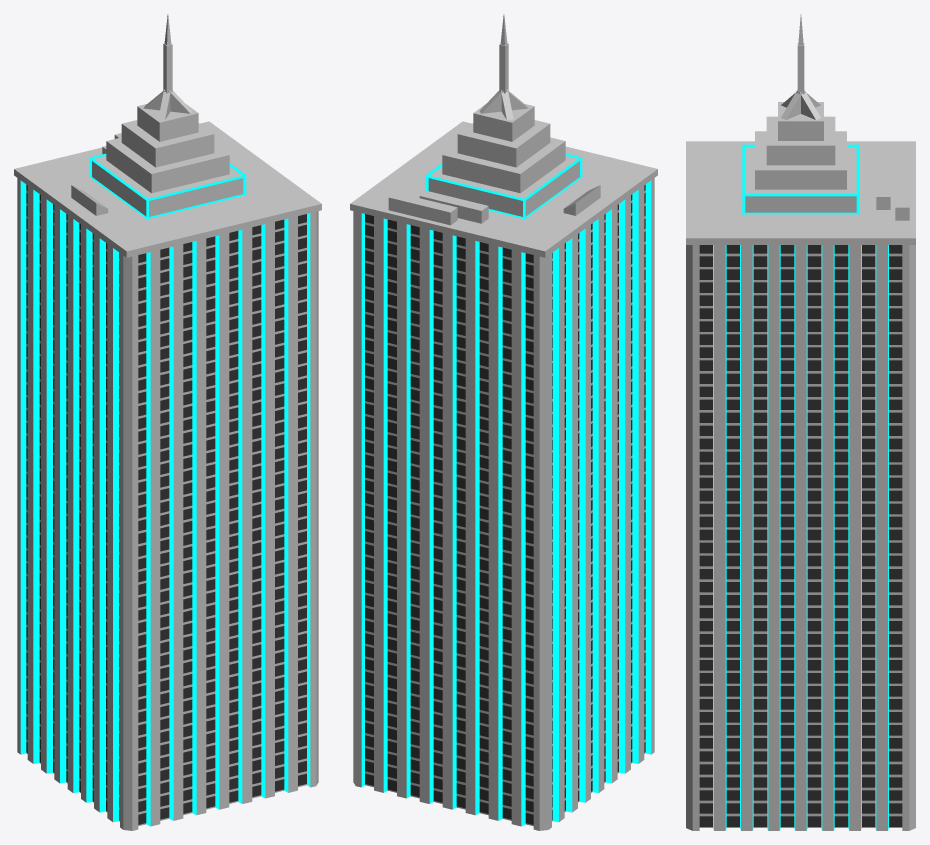
File: building.002.fbx
The picture shows the model from 3 angles, left to right: view 1: azimuth 30°, elevation 25°; view 2: azimuth 150°, elevation 25°; view 3: azimuth 270°, elevation 25°; orthographic projection. The views are drawn at different scales.
Visible parts, largest first — view 1: Building.002; view 2: Building.002; view 3: Building.002.
Boxes of the visible parts, <box> form: Building.002: <box>14,14,321,830</box>; Building.002: <box>350,14,657,830</box>; Building.002: <box>686,14,915,830</box>.
Bounding box in the file's own units: 3200 × 11799 × 3200.
